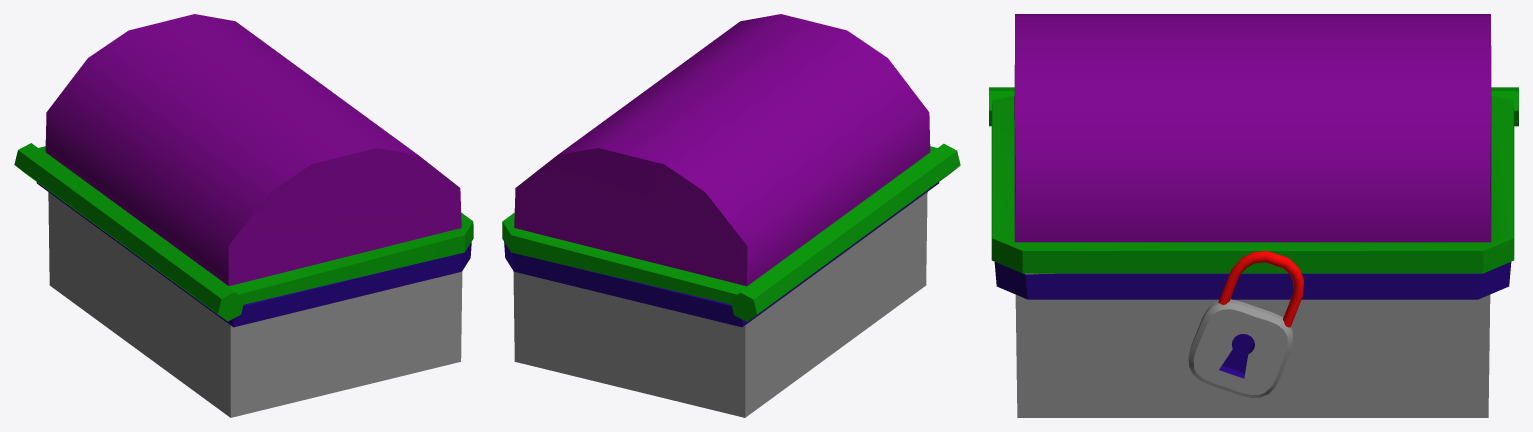
Rendered from chest.FBX.
The picture shows the model from 3 angles, left to right: view 1: azimuth 30°, elevation 25°; view 2: azimuth 150°, elevation 25°; view 3: azimuth 270°, elevation 25°; orthographic projection. The views are drawn at different scales.
Parts seen in each view (by area): view 1: Chester; view 2: Chester; view 3: Chester.
Boxes of the visible parts, <box> form: Chester: <box>14,14,473,417</box>; Chester: <box>502,14,960,417</box>; Chester: <box>989,14,1518,417</box>.
Size of the model in its own units: 32.53 by 26.21 by 41.13.
